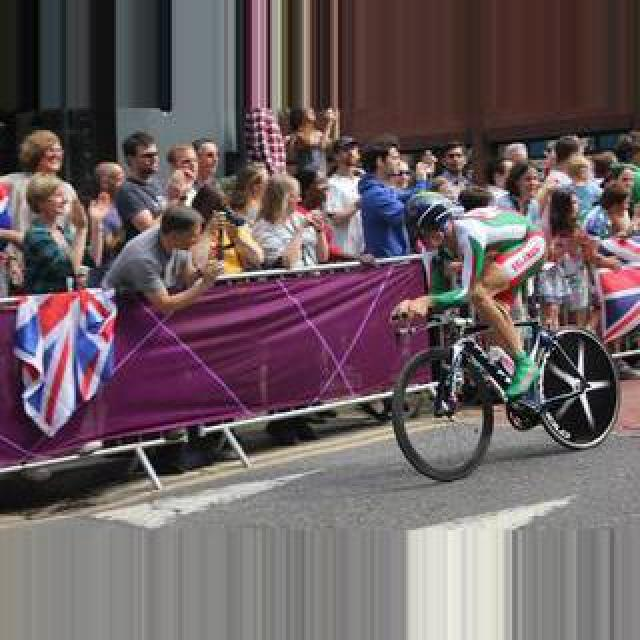MC-Bike: (394, 196, 542, 428), (532, 186, 614, 340), (100, 206, 222, 300), (0, 130, 84, 236), (20, 174, 86, 294), (356, 144, 414, 258), (248, 172, 314, 270), (320, 140, 364, 260), (86, 160, 128, 274), (118, 130, 164, 232), (432, 142, 486, 206)
Person: (390, 290, 626, 486)
